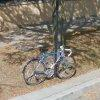Bicycle: (21, 43, 81, 87)
